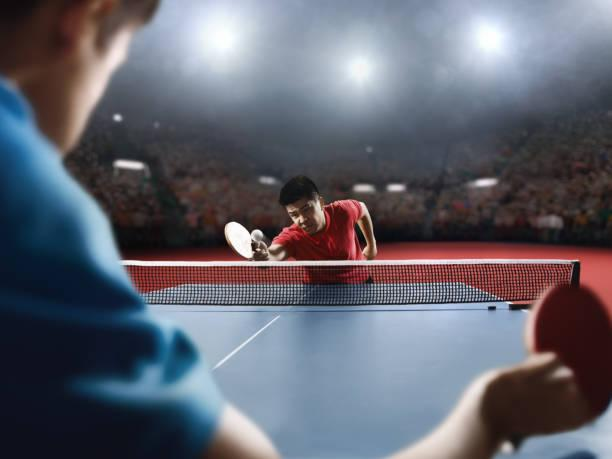ball_pingpong: (250, 227, 264, 243)
